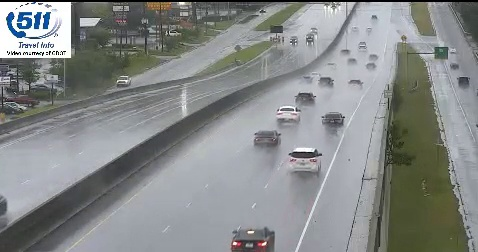car: (232, 225, 275, 252), (289, 148, 319, 173), (254, 131, 281, 147), (275, 106, 300, 123), (321, 112, 343, 126), (296, 92, 315, 106)
